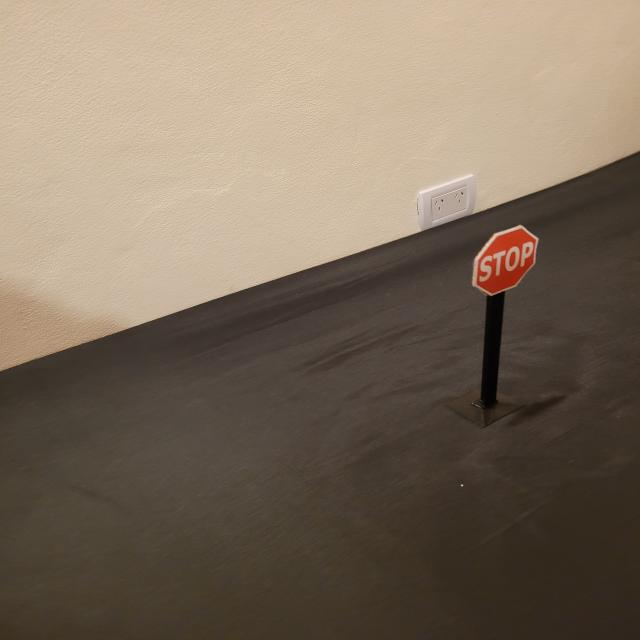stop: (470, 224, 539, 297)
